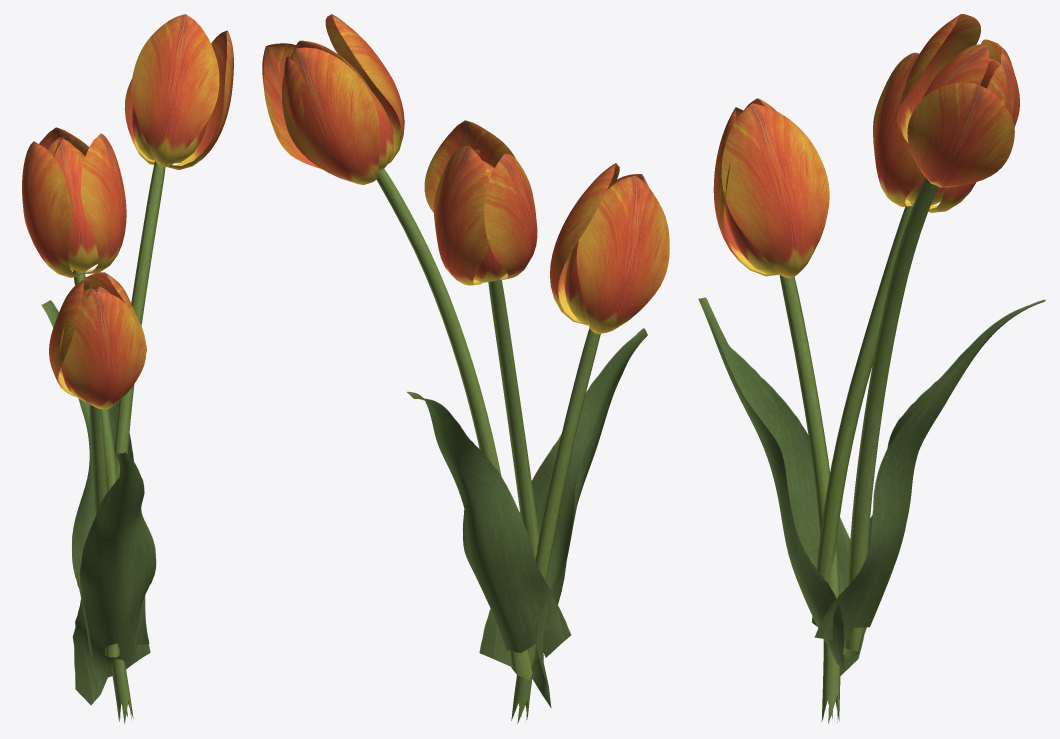
Rendered from tulip.glb.
3 views of the same model, side by side, from view 1: azimuth 30°, elevation 25°; view 2: azimuth 150°, elevation 25°; view 3: azimuth 270°, elevation 25° (orthographic). The views are drawn at different scales.
Visible parts, largest first — view 1: Object_18; view 2: Object_18; view 3: Object_18.
Part boxes in pixels (x1,y1,x2,y2): Object_18: (22, 14, 233, 723); Object_18: (262, 14, 669, 724); Object_18: (698, 14, 1045, 723).
Size of the model in its own units: 7.14 by 16.64 by 6.76.
Materials: 3 (3 with a texture image).
